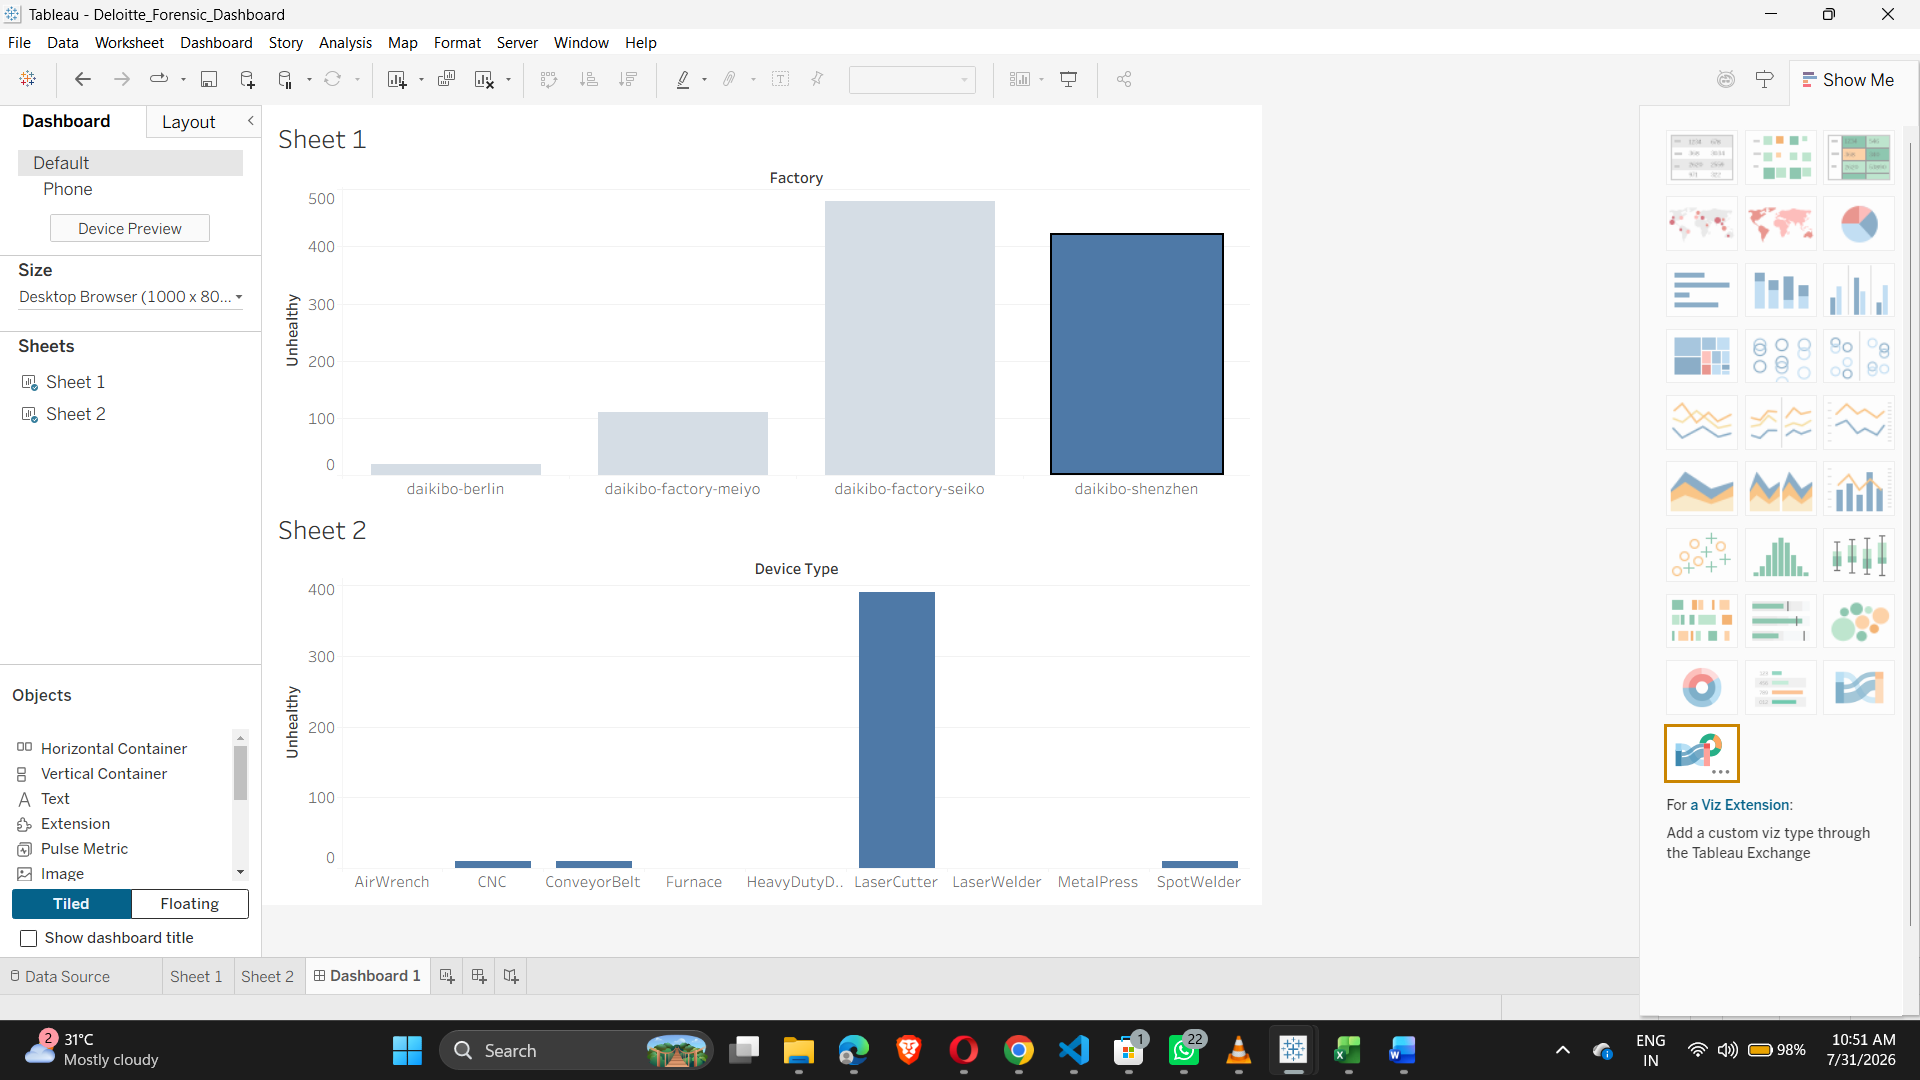

The dashboard page shown, as its layout file describes it:
{"tool":"tableau","page":{"name":"Dashboard 1","canvas":[1000,800],"ordinal":0},"visuals":[{"type":"worksheet","title":"Sheet 1","mark":"Automatic","rows":["Calculation_1340882859810816"],"cols":["factory"],"box":[8,8,984,391.2]},{"type":"worksheet","title":"Sheet 2","mark":"Automatic","rows":["Calculation_1340882859810816"],"cols":["deviceType"],"box":[8,399.2,984,392.8]}]}

Visuals, with their boxes on the page's 1000x800 design canvas (x1, y1, x2, y2). These are canvas units, not pixel positions in the 1920x1080 screenshot, which may show the page scaled, cropped or inside an application window:
"Sheet 1" worksheet: 8:8:992:399
"Sheet 2" worksheet: 8:399:992:792
